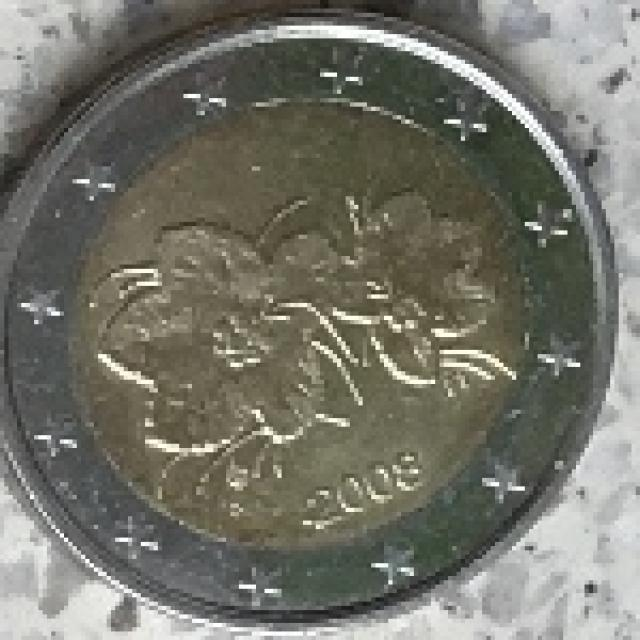2e: (9, 9, 628, 632)
